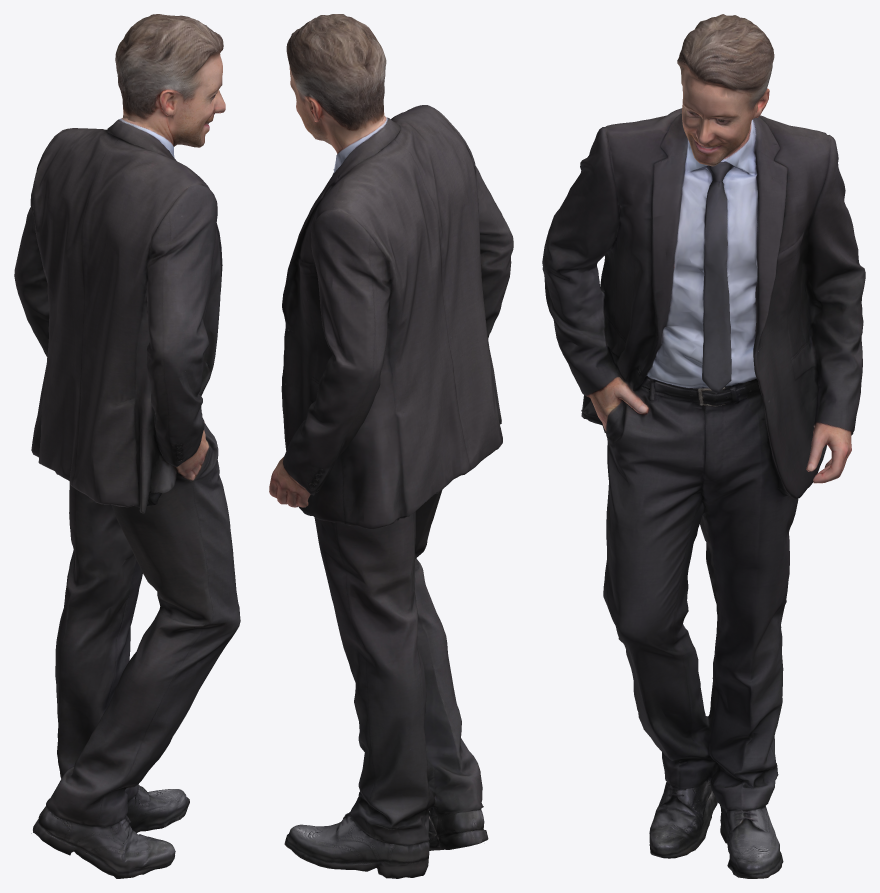
Rendered from dennis.fbx.
3 views of the same model, side by side, from view 1: azimuth 30°, elevation 25°; view 2: azimuth 150°, elevation 25°; view 3: azimuth 270°, elevation 25° (orthographic). The views are drawn at different scales.
Visible parts, largest first — view 1: dennis; view 2: dennis; view 3: dennis.
Boxes of the visible parts, box(x1,y1,x2,y2) form: dennis: box(14, 14, 240, 878); dennis: box(269, 14, 513, 878); dennis: box(542, 14, 865, 878).
Size of the model in its own units: 0.9176 by 3.74 by 1.28.
1 material, 1 textured.
